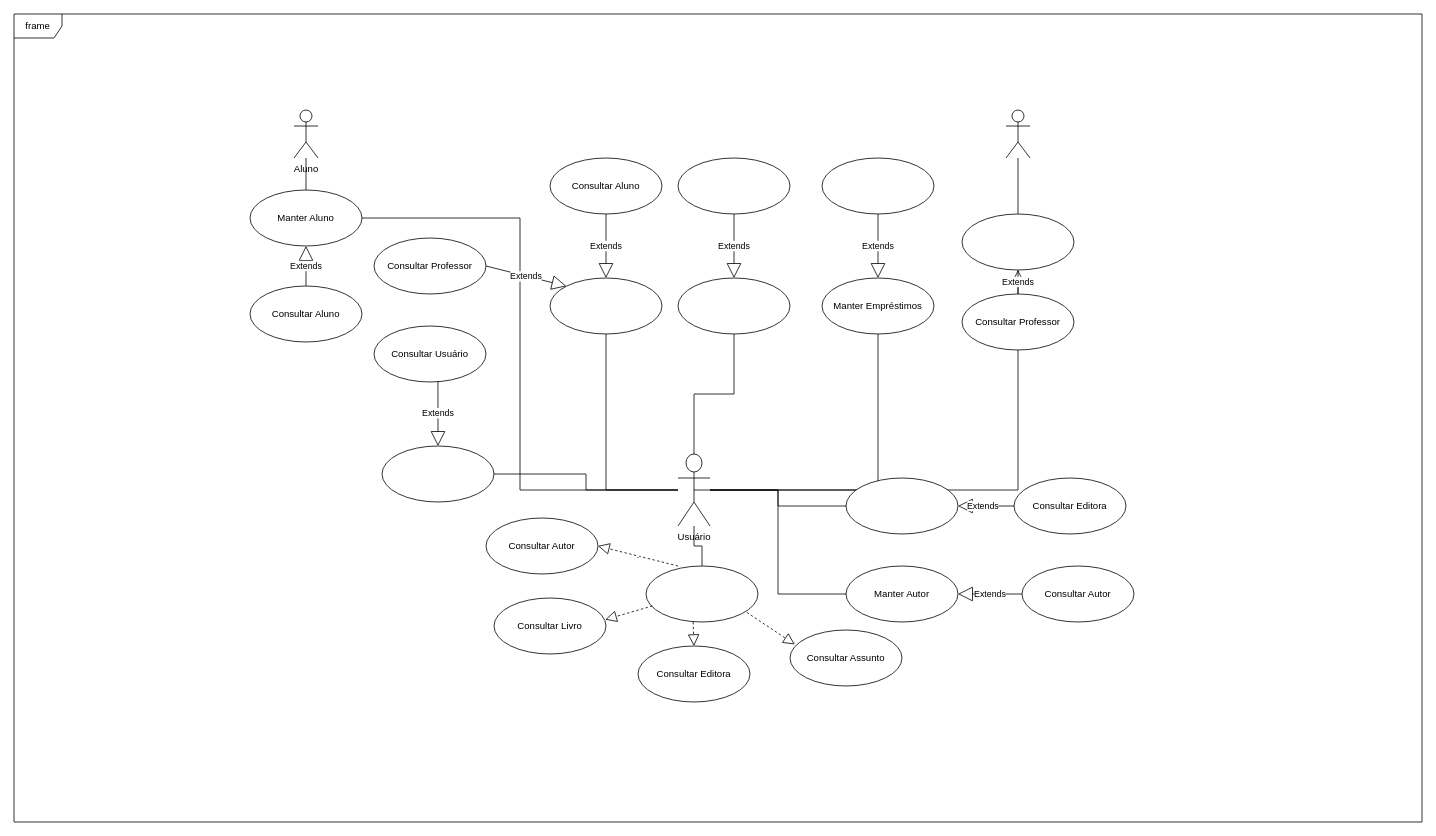
Some shapes in this 1436 by 836 pixel diagram are drawn without their labels. The shapes that lost their labels are listed below. From the top down, each one's centre as x and y in pixels, then its label:
At (x=1017, y=133): "Professor".
At (x=733, y=185): "Consultar Reservas".
At (x=877, y=185): "Consultar Empréstimos".
At (x=1017, y=241): "Manter Professor".
At (x=605, y=305): "Controlar Multas".
At (x=733, y=305): "Manter Reservas".
At (x=437, y=473): "Manter Usuário".
At (x=901, y=505): "Manter Editora".
At (x=701, y=593): "Manter Livro".
